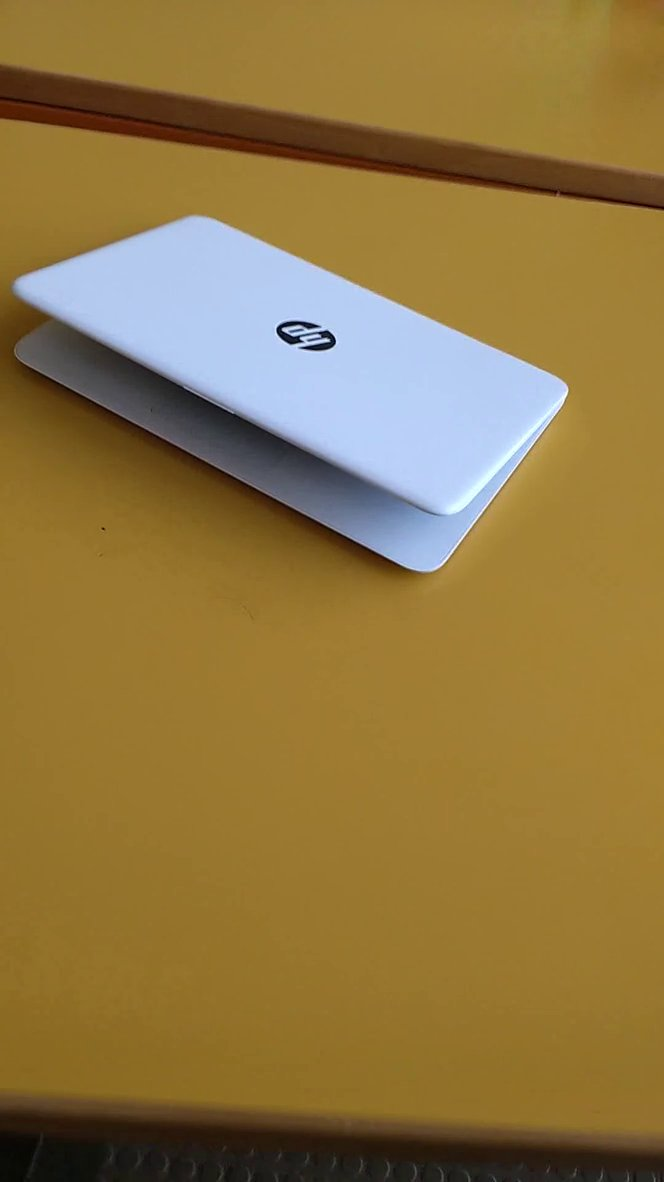laptop: (2, 200, 580, 594)
